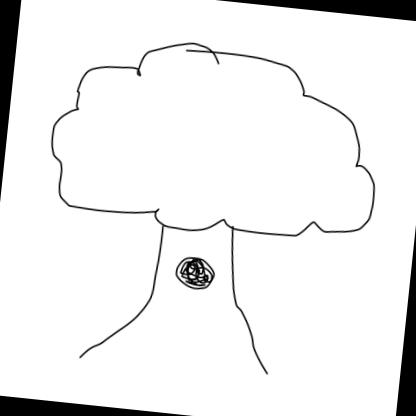crown_cloud: (43, 30, 390, 248)
knot: (174, 254, 216, 291)
trunk_straight: (148, 231, 252, 313)
